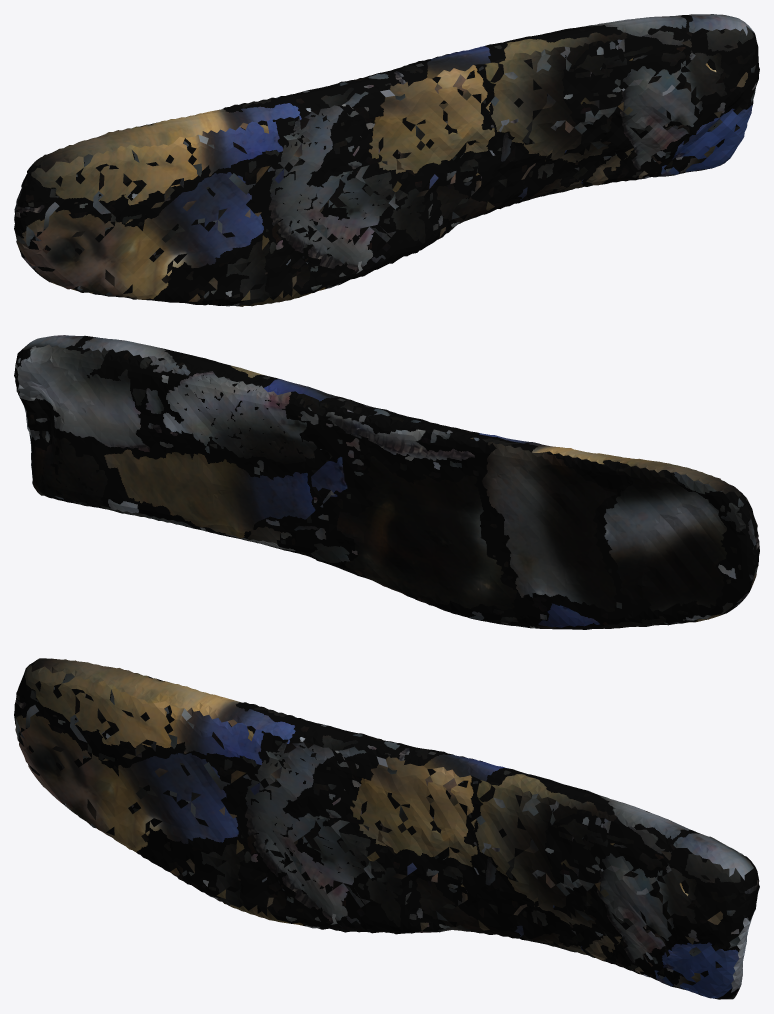
The model's file is center_mesh_remote-black.obj.
3 renders of one model, top to bottom at view 1: azimuth 30°, elevation 25°; view 2: azimuth 150°, elevation 25°; view 3: azimuth 330°, elevation 25°, orthographic.
Size of the model in its own units: 0.184 by 0.0477 by 0.0151.
